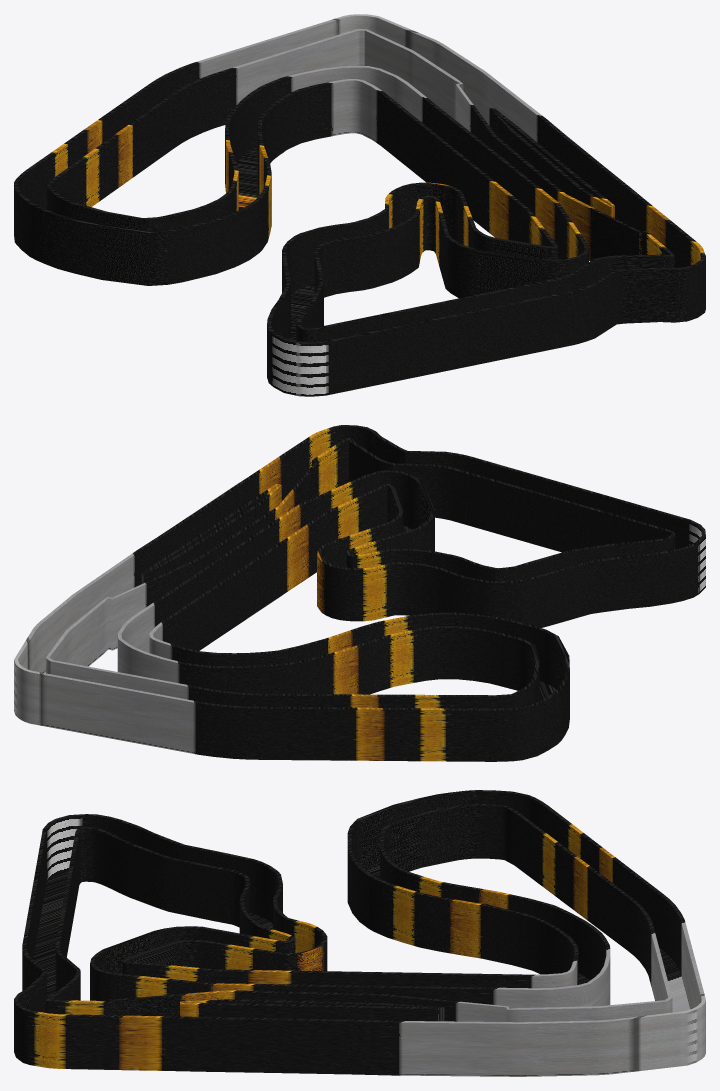
File: NewTrack-Collidor.fbx
3 views of the same model, one above another, from view 1: azimuth 30°, elevation 25°; view 2: azimuth 150°, elevation 25°; view 3: azimuth 270°, elevation 25° (orthographic). The views are drawn at different scales.
Visible parts, largest first — view 1: Colidor_Wall, Colidor_Floor; view 2: Colidor_Wall; view 3: Colidor_Wall, Colidor_Floor.
Boxes of the visible parts, x1,y1,x2,y2 form: Colidor_Wall: (14, 14, 705, 396); Colidor_Floor: (236, 144, 314, 340); Colidor_Wall: (14, 425, 705, 761); Colidor_Wall: (14, 790, 705, 1076); Colidor_Floor: (33, 865, 690, 1012).
Size of the model in its own units: 13198 by 1410 by 16499.
